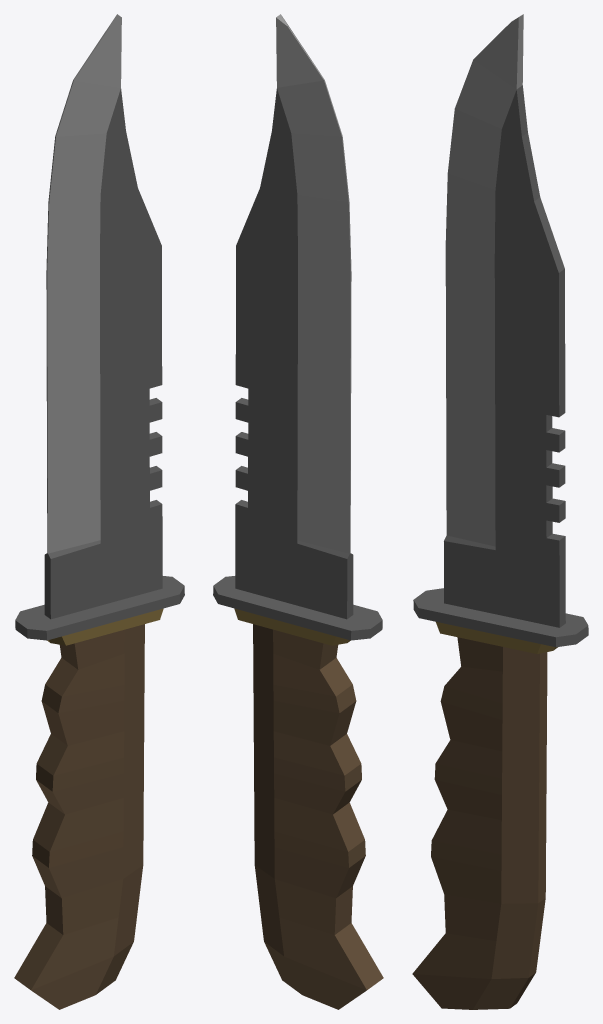
File: Knife.obj
3 views of the same model, side by side, from view 1: azimuth 30°, elevation 25°; view 2: azimuth 150°, elevation 25°; view 3: azimuth 330°, elevation 25° (orthographic). The views are drawn at different scales.
Visible parts, largest first — view 1: Knife_Cube; view 2: Knife_Cube; view 3: Knife_Cube.
Part boxes in pixels (x1=…): Knife_Cube: x1=14, y1=14, x2=184, y2=1009; Knife_Cube: x1=213, y1=14, x2=383, y2=1009; Knife_Cube: x1=412, y1=14, x2=588, y2=1009.
Bounding box in the file's own units: 0.2654 × 1.56 × 0.0778.
